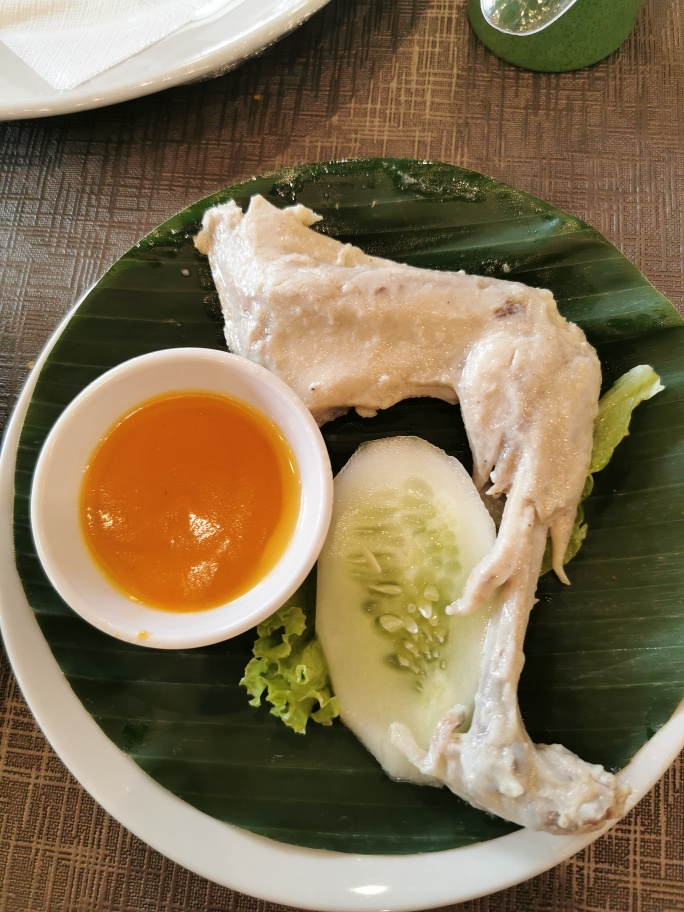ayam pop: (192, 195, 623, 832)
extra: (34, 333, 500, 802)
